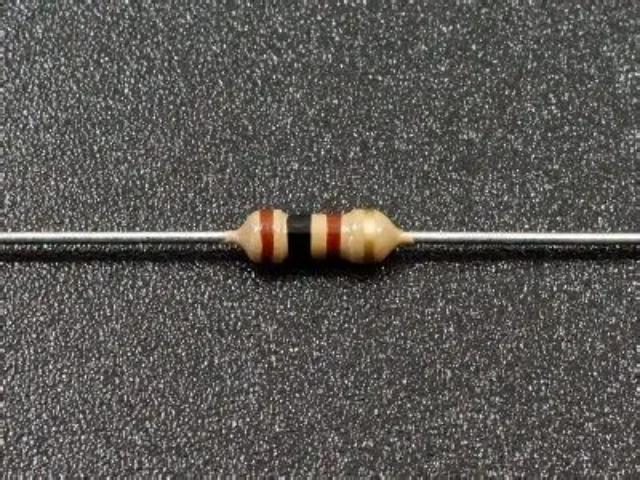black: (286, 211, 312, 269)
brown: (256, 204, 276, 273), (323, 210, 341, 265)
gold: (362, 207, 376, 268)
resistor: (210, 181, 440, 297)
